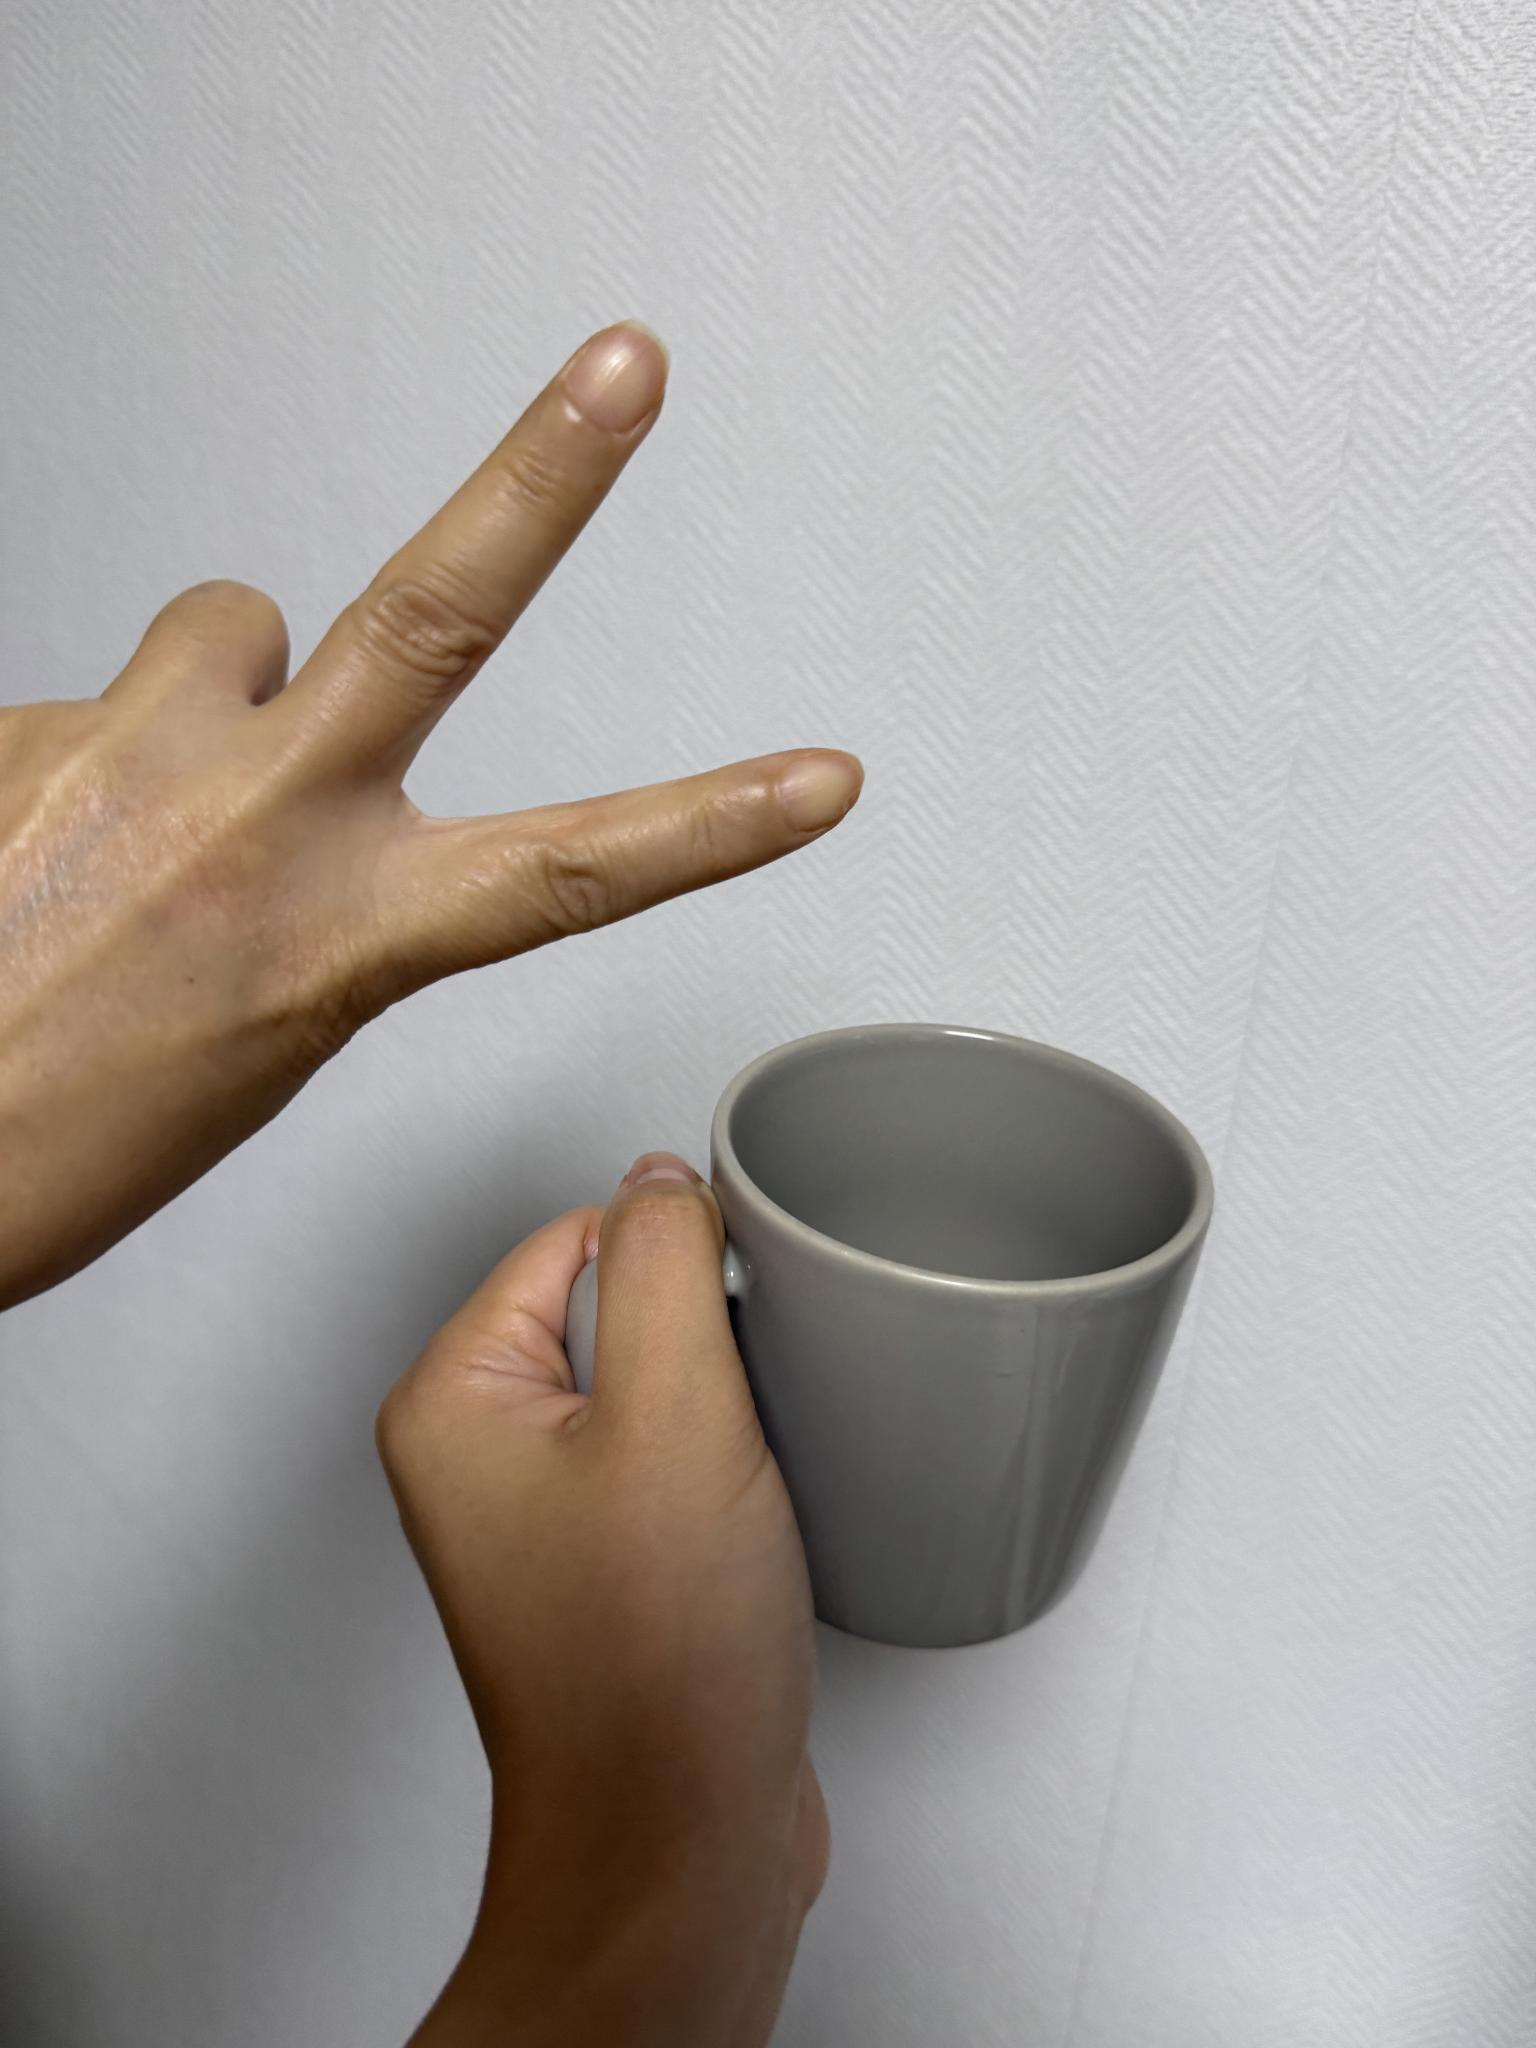cup: (381, 990, 1255, 2042)
v: (0, 316, 862, 1469)
